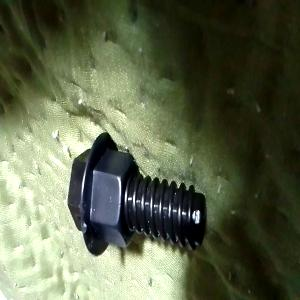parafuso: (67, 131, 207, 256)
